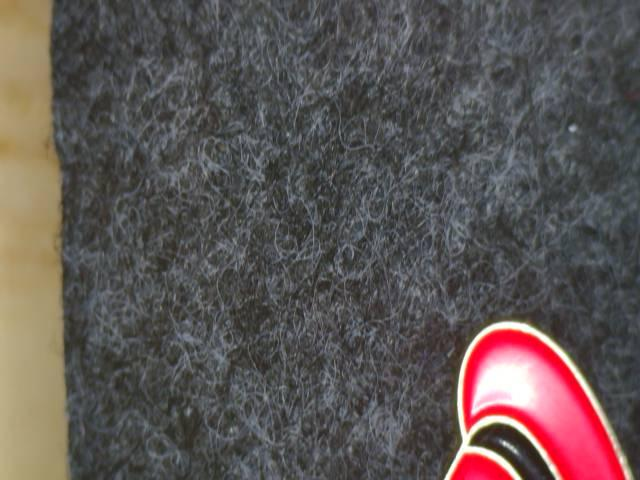Red-Hat: (402, 299, 640, 480)
